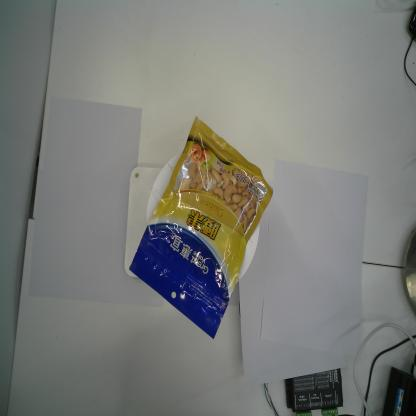Dried Fruit: (128, 116, 275, 341)
